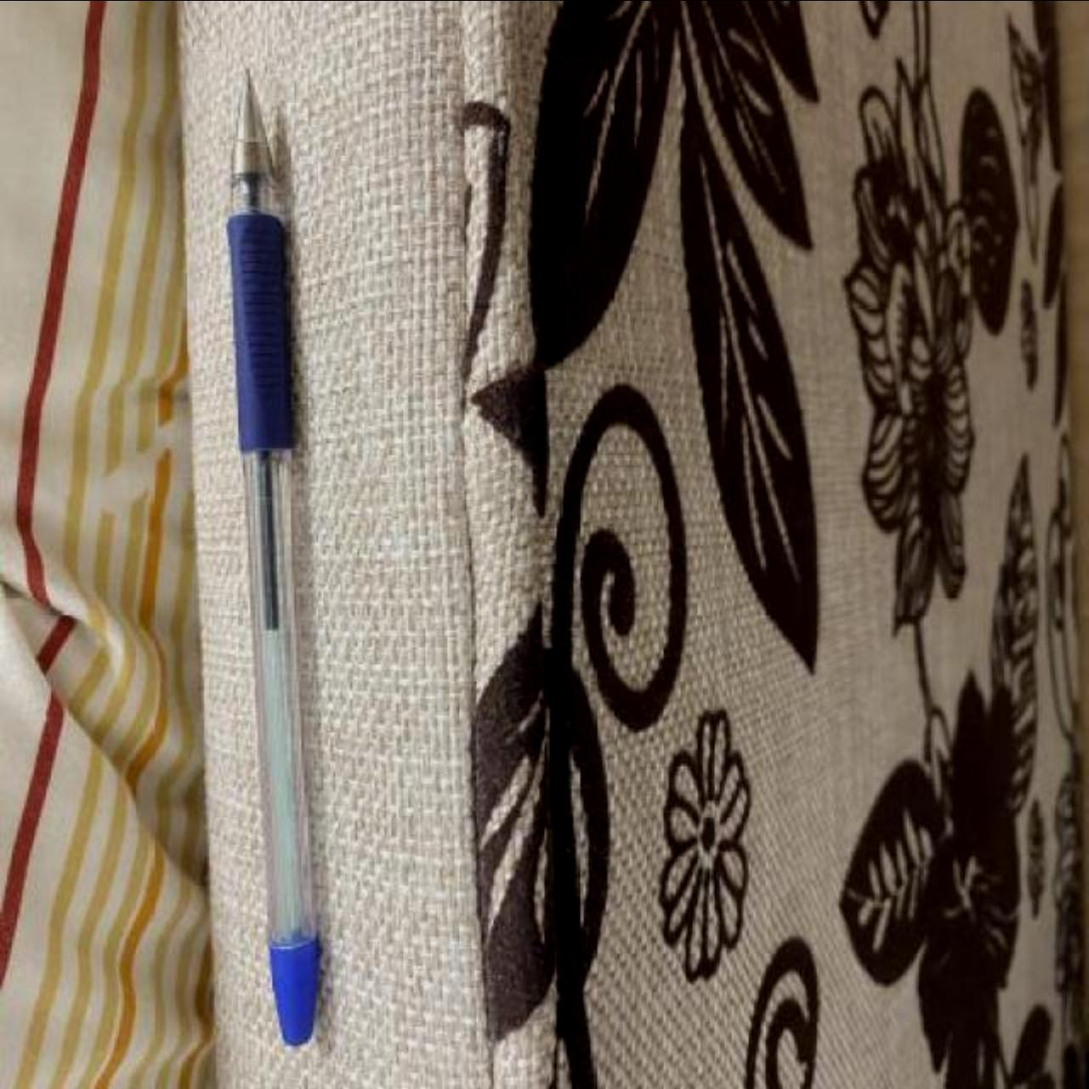pen: (220, 73, 327, 1052)
